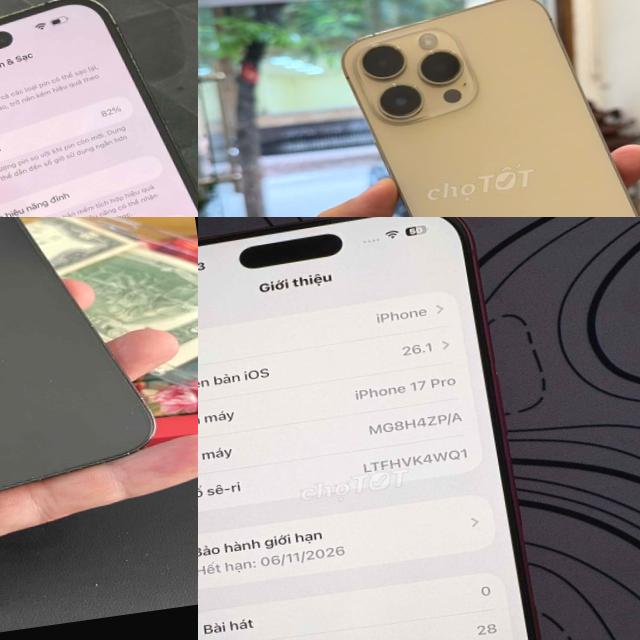gen_14: (343, 0, 640, 217), (0, 217, 185, 563), (0, 0, 198, 217)
gen_17: (198, 217, 559, 640)
scratch: (0, 453, 133, 530), (118, 15, 187, 158), (0, 0, 56, 30)
